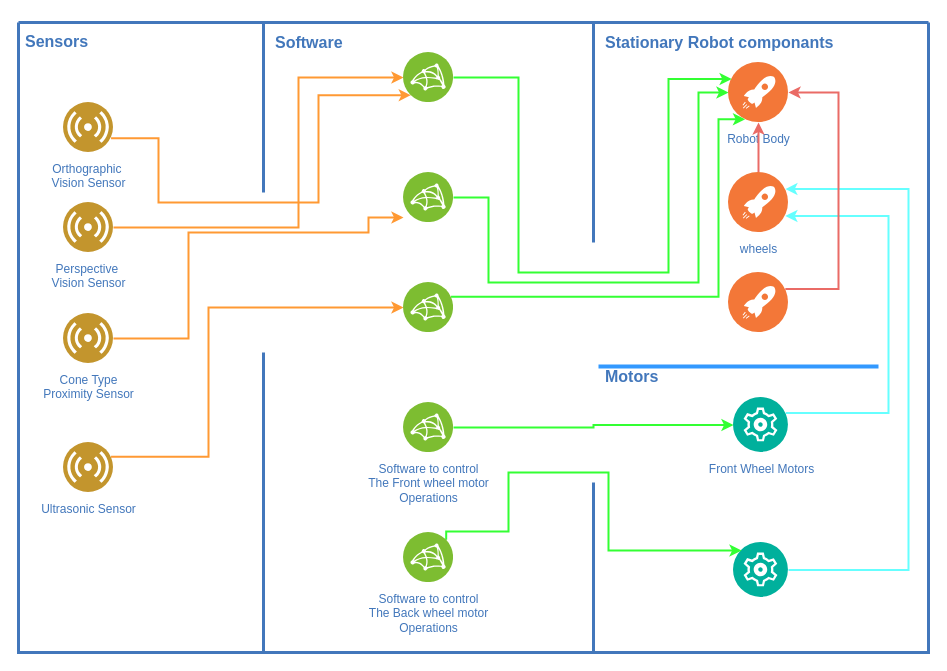
Image size: 947x671. Some labels were removed from this diagram. The shapes that lost their labels are listed below. From the top down, each one's box as (x1, y1, x2, y2) in pixels, then its label:
(403, 52, 453, 102): Software to Control Vision sensor for The robot Body
(403, 172, 453, 222): Software To control Proximity Sensor for Robot body
(403, 282, 453, 332): Software to control Ultrasonic Sensor for robot body
(728, 272, 788, 332): Plow
(733, 542, 788, 597): Back Wheel Motors
